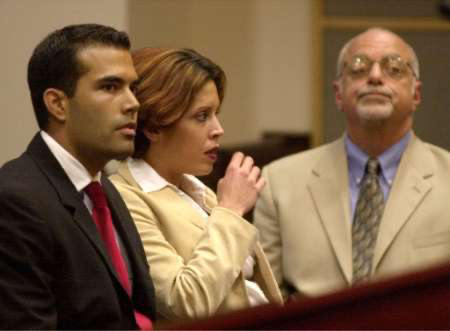Face: (342, 38, 413, 137), (79, 59, 144, 162), (173, 92, 229, 181)
